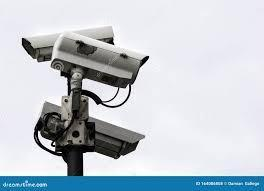tutu: (51, 31, 149, 92)
